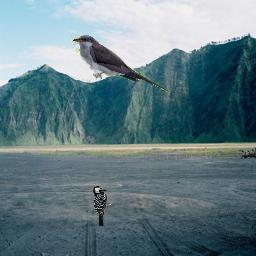Cuckoo: (71, 35, 169, 94)
Woodpecker: (92, 185, 113, 226)
